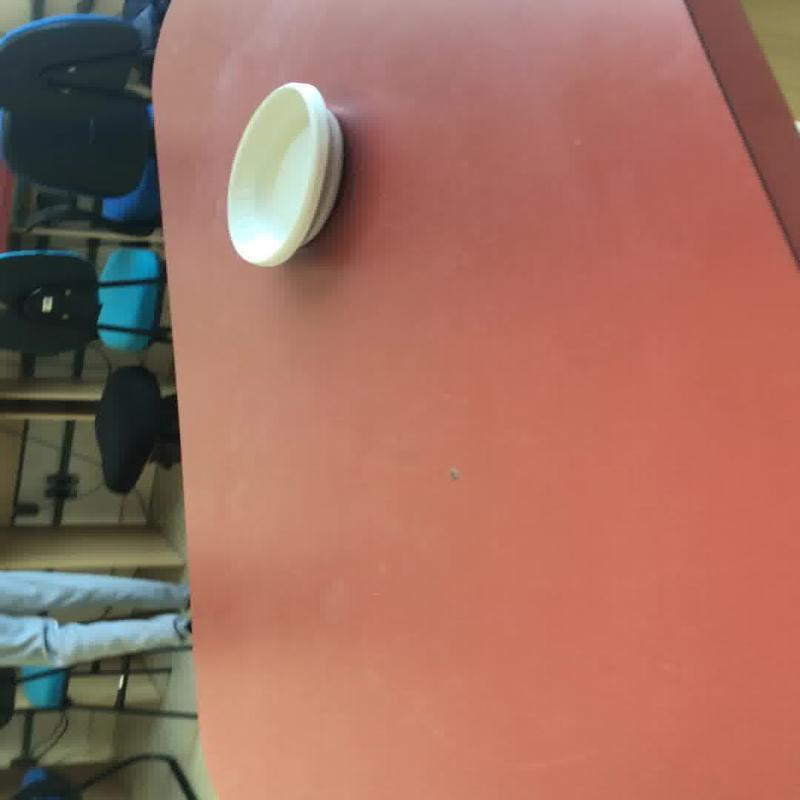plate: (224, 81, 344, 267)
